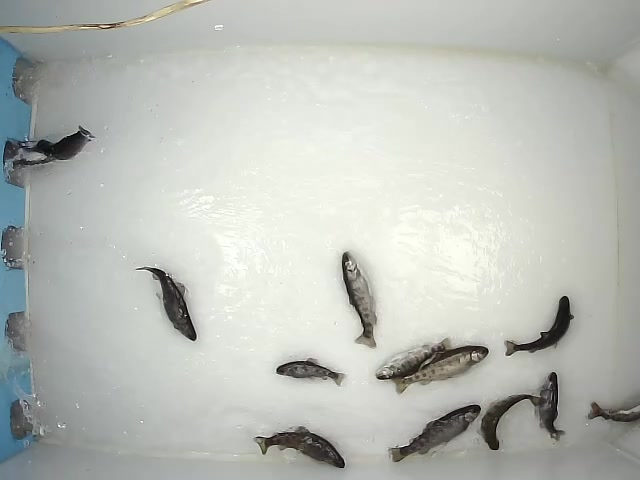fish: (387, 403, 483, 465), (391, 344, 490, 395), (133, 266, 199, 342), (503, 295, 575, 357), (475, 393, 544, 451), (251, 426, 346, 468), (341, 249, 378, 349), (374, 337, 452, 381), (538, 370, 568, 445), (275, 358, 348, 388)
